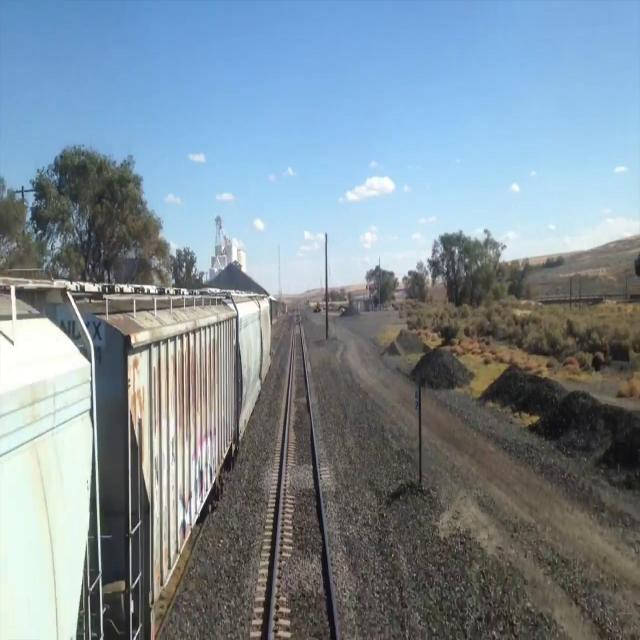rail-track: (272, 302, 336, 639), (272, 315, 287, 348)
